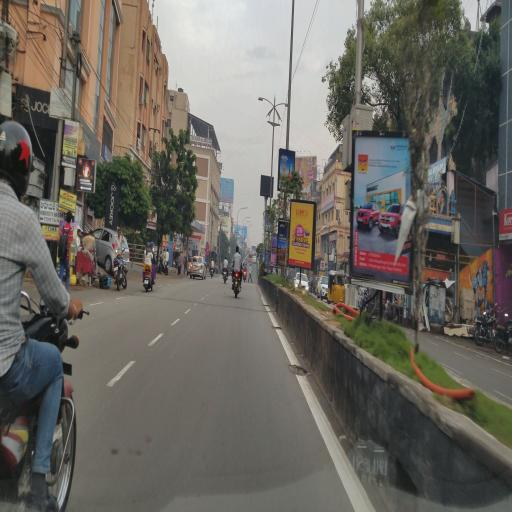street_light_0: (272, 88, 290, 124), (251, 88, 271, 120), (234, 200, 248, 220)
